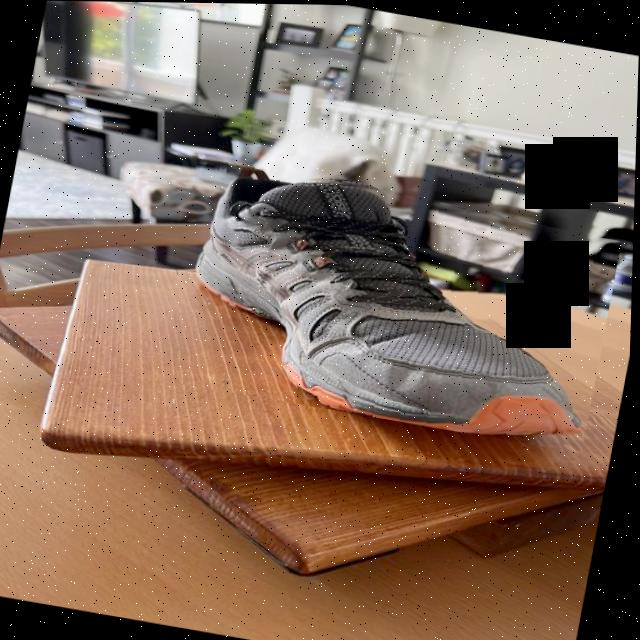shoe: (174, 155, 628, 452)
